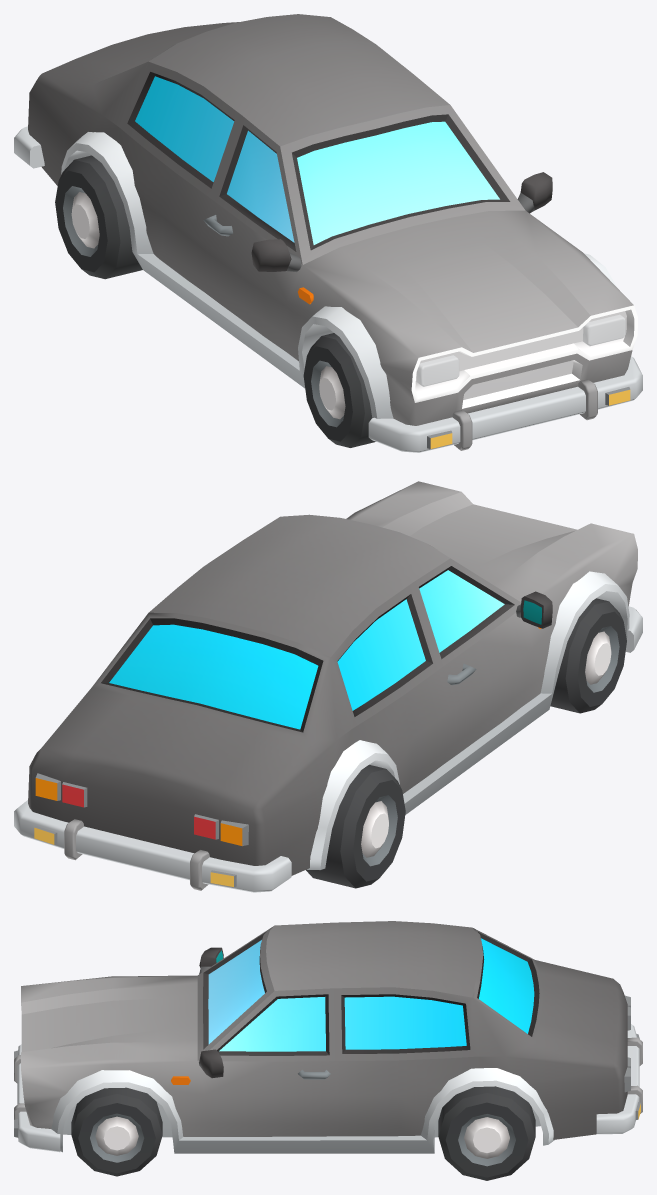
File: Car_02.glb
3 renders of one model, top to bottom at view 1: azimuth 30°, elevation 25°; view 2: azimuth 150°, elevation 25°; view 3: azimuth 270°, elevation 25°, orthographic. The views are drawn at different scales.
Visible parts, largest first — view 1: Car_02, Wheel_090, Wheel_089; view 2: Car_02, Wheel_090, Wheel_089; view 3: Car_02, Wheel_092, Wheel_091.
Boxes of the visible parts, <box> form: Car_02: <box>14,14,642,452</box>; Wheel_090: <box>55,155,142,279</box>; Wheel_089: <box>303,333,375,447</box>; Car_02: <box>14,481,642,892</box>; Wheel_090: <box>306,764,405,888</box>; Wheel_089: <box>550,598,626,713</box>; Car_02: <box>14,921,642,1153</box>; Wheel_092: <box>438,1086,535,1180</box>; Wheel_091: <box>71,1087,162,1176</box>.
Size of the model in its own units: 2.37 by 1.77 by 5.48.
Materials: 2 (2 with a texture image).
